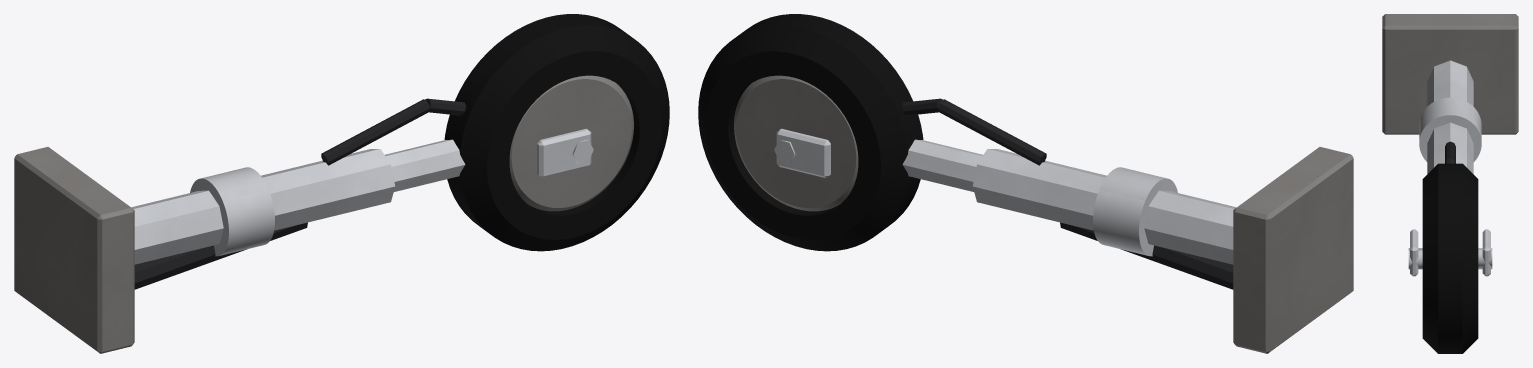
File: ax_gear_01_nose_gear_m.glb
The picture shows the model from 3 angles, left to right: view 1: azimuth 30°, elevation 25°; view 2: azimuth 150°, elevation 25°; view 3: azimuth 270°, elevation 25°; orthographic projection. The views are drawn at different scales.
Visible parts, largest first — view 1: wheel_tyres, gear_leg, mount_block, wheel_hubs, gear_links; view 2: wheel_tyres, gear_leg, mount_block, wheel_hubs, gear_links; view 3: mount_block, wheel_tyres, gear_leg, gear_axles, gear_links.
Boxes of the visible parts, x1,y1,x2,y2 form: wheel_tyres: (444, 14, 669, 251); gear_leg: (131, 128, 591, 264); mount_block: (14, 147, 134, 353); wheel_hubs: (509, 75, 633, 211); gear_links: (134, 98, 466, 289); wheel_tyres: (698, 14, 923, 251); gear_leg: (776, 128, 1236, 264); mount_block: (1233, 147, 1353, 353); wheel_hubs: (734, 75, 858, 211); gear_links: (901, 98, 1233, 289); mount_block: (1382, 14, 1518, 134); wheel_tyres: (1422, 163, 1478, 353); gear_leg: (1410, 60, 1490, 276); gear_axles: (1408, 248, 1492, 269); gear_links: (1445, 141, 1455, 163).
Size of the model in its own units: 1.96 by 0.6798 by 0.4862.
Materials: 4 (2 with a texture image).
